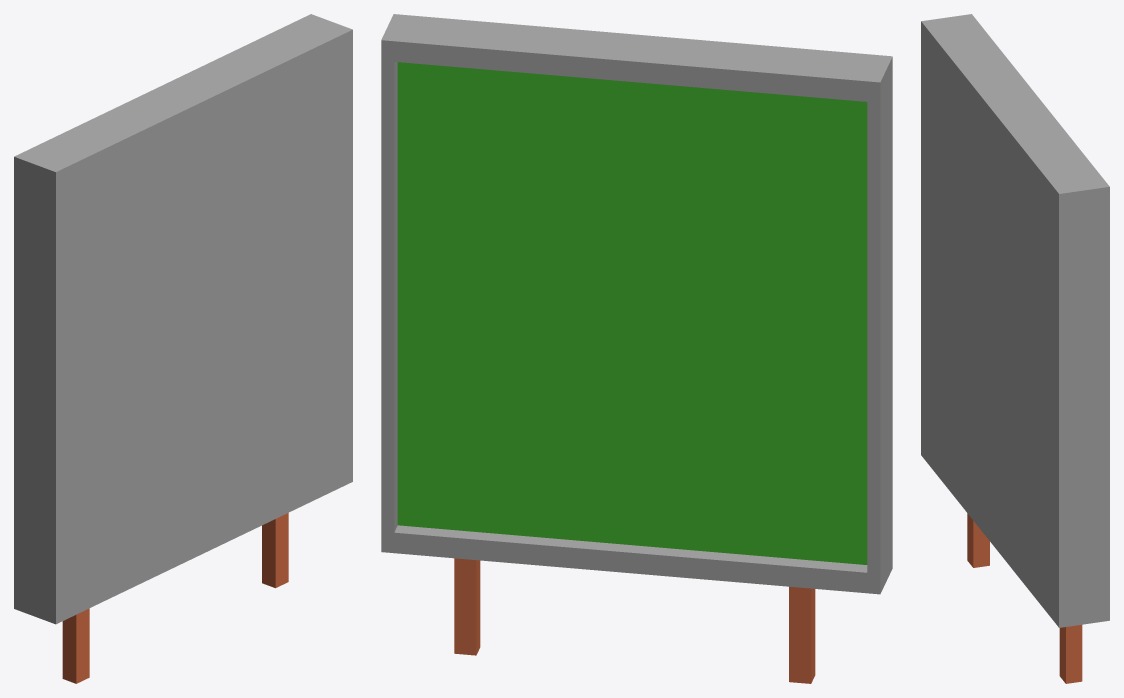
The model's file is table.glb.
The picture shows the model from 3 angles, left to right: view 1: azimuth 30°, elevation 25°; view 2: azimuth 150°, elevation 25°; view 3: azimuth 270°, elevation 25°; orthographic projection. The views are drawn at different scales.
Visible parts, largest first — view 1: Plane.038, Plane.037; view 2: image.005, Plane.038, Plane.037; view 3: Plane.038, Plane.037.
Part boxes in pixels (x1,y1,x2,y2): Plane.038: (14, 14, 352, 624); Plane.037: (62, 513, 288, 683); image.005: (397, 62, 867, 564); Plane.038: (381, 14, 892, 594); Plane.037: (454, 558, 815, 683); Plane.038: (921, 14, 1109, 627); Plane.037: (967, 513, 1082, 683).
Bounding box in the file's own units: 1.24 × 1.67 × 0.5509.
